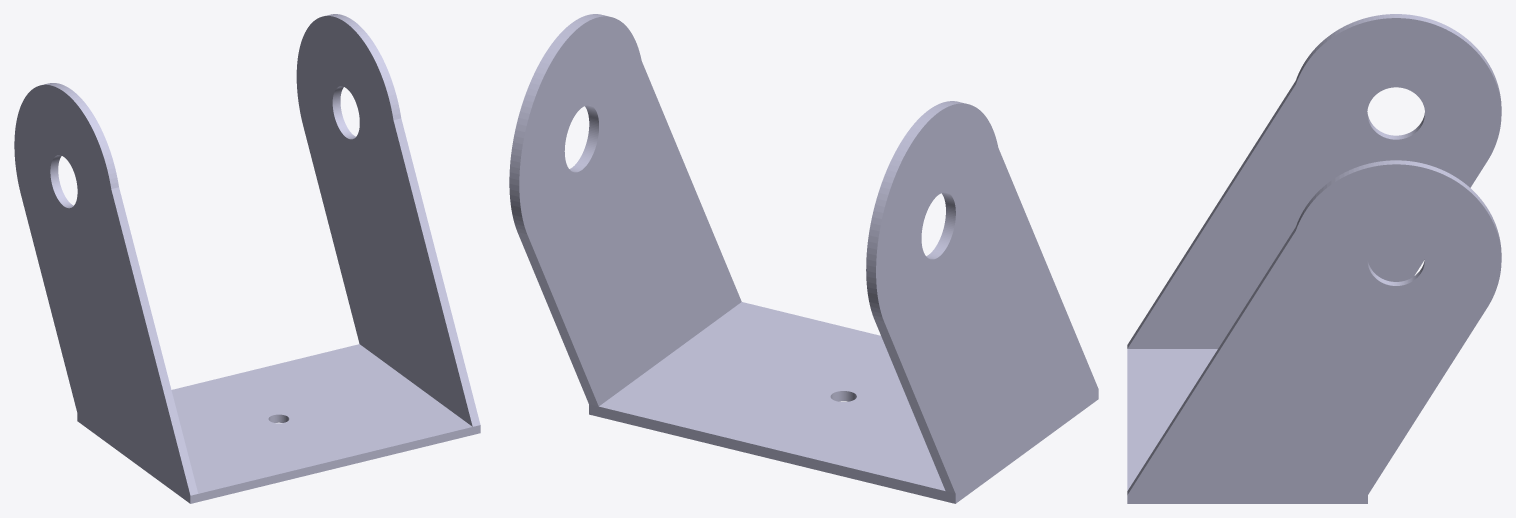
Rendered from Camera_bottom.dae.
The picture shows the model from 3 angles, left to right: view 1: azimuth 30°, elevation 25°; view 2: azimuth 150°, elevation 25°; view 3: azimuth 270°, elevation 25°; orthographic projection. The views are drawn at different scales.
Visible parts, largest first — view 1: node0; view 2: node0; view 3: node0.
Part boxes in pixels (box(x1,y1,x2,y2)): node0: box(14, 14, 480, 503); node0: box(509, 14, 1098, 503); node0: box(1127, 14, 1501, 503).
Bounding box in the file's own units: 0.037 × 0.0389 × 0.039.
